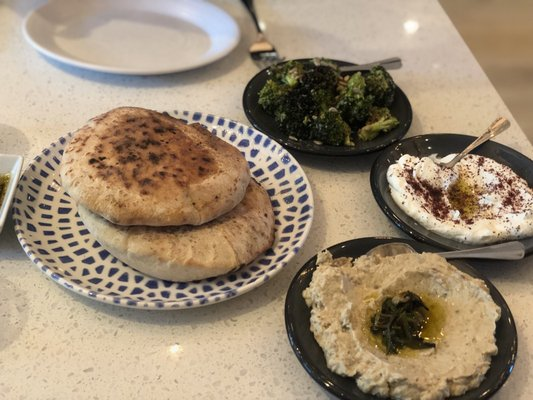curry: (256, 58, 399, 147)
salad: (435, 116, 510, 168), (240, 0, 279, 60)
